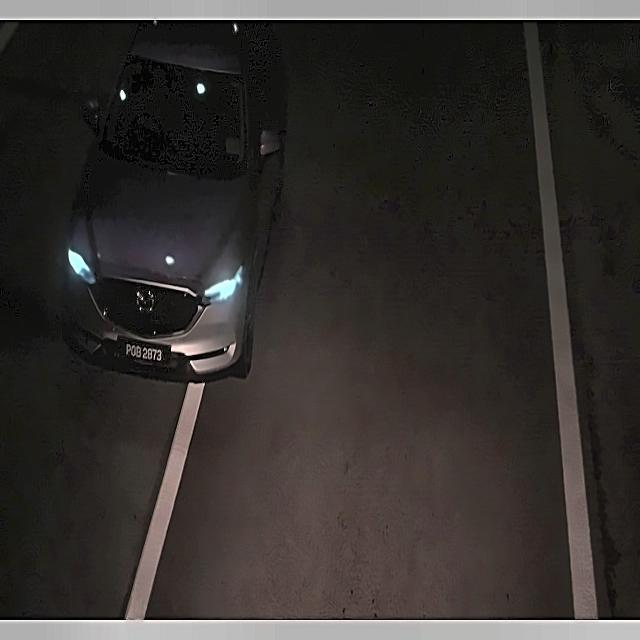car: (118, 334, 168, 369)
